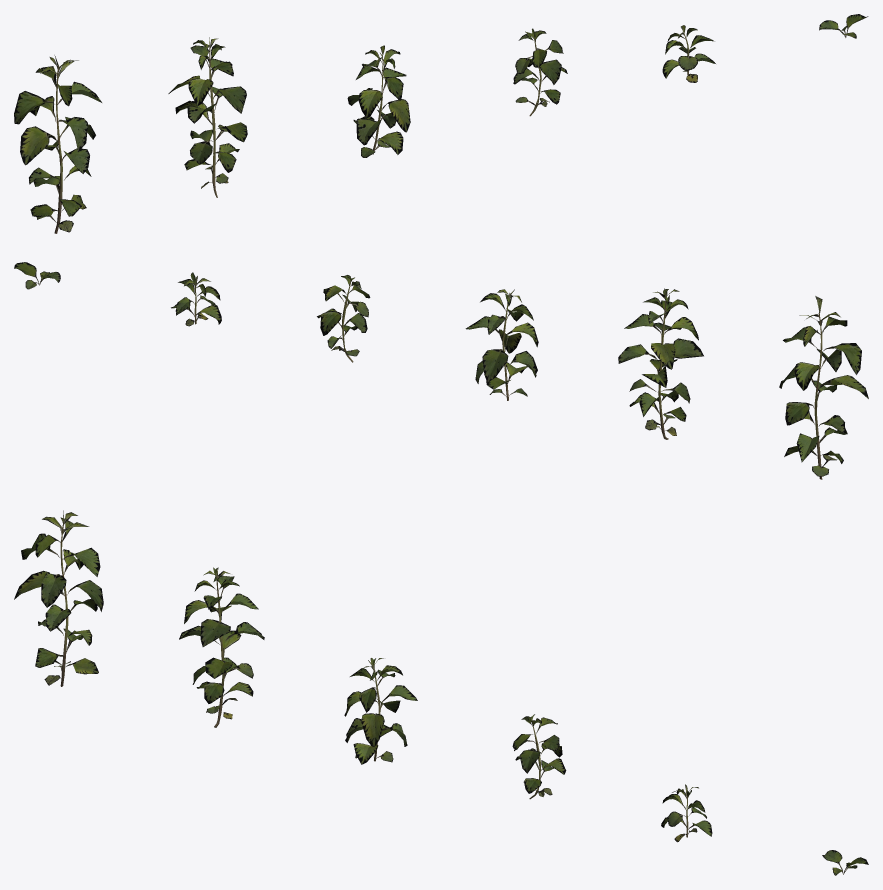
File: nettle.glb
The picture shows the model from 3 angles, top to bottom: view 1: azimuth 30°, elevation 25°; view 2: azimuth 150°, elevation 25°; view 3: azimuth 330°, elevation 25°; orthographic projection.
Visible parts, largest first — view 1: nettle_plant_tall_a_LOD0, nettle_plant_tall_b_LOD0, nettle_plant_medium_a_LOD0, nettle_plant_medium_b_LOD0, nettle_plant_small_a_LOD0; view 2: nettle_plant_tall_a_LOD0, nettle_plant_tall_b_LOD0, nettle_plant_medium_a_LOD0, nettle_plant_medium_b_LOD0, nettle_plant_small_a_LOD0, nettle_plant_small_b_LOD0; view 3: nettle_plant_tall_a_LOD0, nettle_plant_tall_b_LOD0, nettle_plant_medium_a_LOD0, nettle_plant_medium_b_LOD0, nettle_plant_small_a_LOD0.
Part boxes in pixels (x1=…): nettle_plant_tall_a_LOD0: x1=14, y1=55, x2=101, y2=233; nettle_plant_tall_b_LOD0: x1=168, y1=37, x2=247, y2=197; nettle_plant_medium_a_LOD0: x1=347, y1=45, x2=410, y2=157; nettle_plant_medium_b_LOD0: x1=513, y1=28, x2=567, y2=116; nettle_plant_small_a_LOD0: x1=662, y1=25, x2=715, y2=82; nettle_plant_tall_a_LOD0: x1=779, y1=296, x2=868, y2=479; nettle_plant_tall_b_LOD0: x1=618, y1=288, x2=703, y2=439; nettle_plant_medium_a_LOD0: x1=465, y1=289, x2=538, y2=400; nettle_plant_medium_b_LOD0: x1=317, y1=275, x2=370, y2=362; nettle_plant_small_a_LOD0: x1=171, y1=272, x2=221, y2=326; nettle_plant_small_b_LOD0: x1=14, y1=262, x2=60, y2=289; nettle_plant_tall_a_LOD0: x1=14, y1=510, x2=103, y2=686; nettle_plant_tall_b_LOD0: x1=179, y1=567, x2=264, y2=727; nettle_plant_medium_a_LOD0: x1=344, y1=658, x2=417, y2=764; nettle_plant_medium_b_LOD0: x1=512, y1=714, x2=566, y2=799; nettle_plant_small_a_LOD0: x1=661, y1=784, x2=712, y2=842.
Bounding box in the file's own units: 1.08 × 0.2181 × 0.0947.
Materials: 1 (1 with a texture image).
